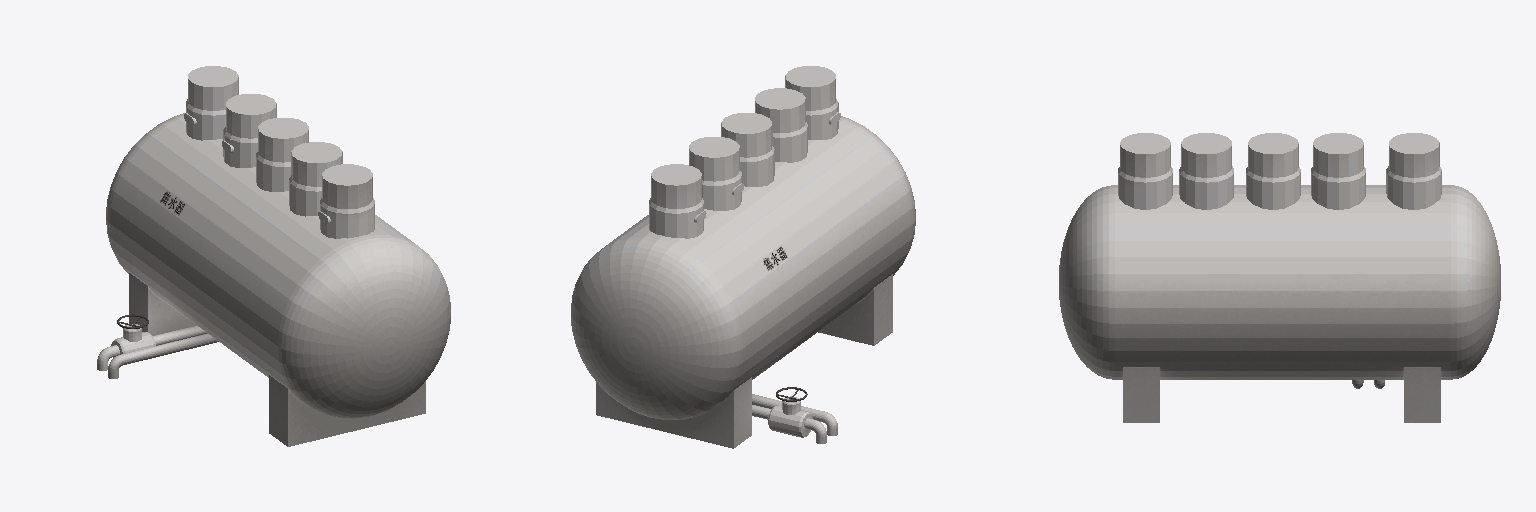
The picture shows the model from 3 angles: view 1: azimuth 30°, elevation 25°; view 2: azimuth 150°, elevation 25°; view 3: azimuth 270°, elevation 25°; orthographic projection.
Visible parts, largest first — view 1: ChamferCyl03; view 2: ChamferCyl03; view 3: ChamferCyl03.
Part boxes in pixels (x1,y1,x2,y2): ChamferCyl03: (97, 66, 450, 446); ChamferCyl03: (571, 66, 915, 448); ChamferCyl03: (1059, 133, 1500, 422).
Bounding box in the file's own units: 269 × 295 × 476.
Materials: 1 (1 with a texture image).